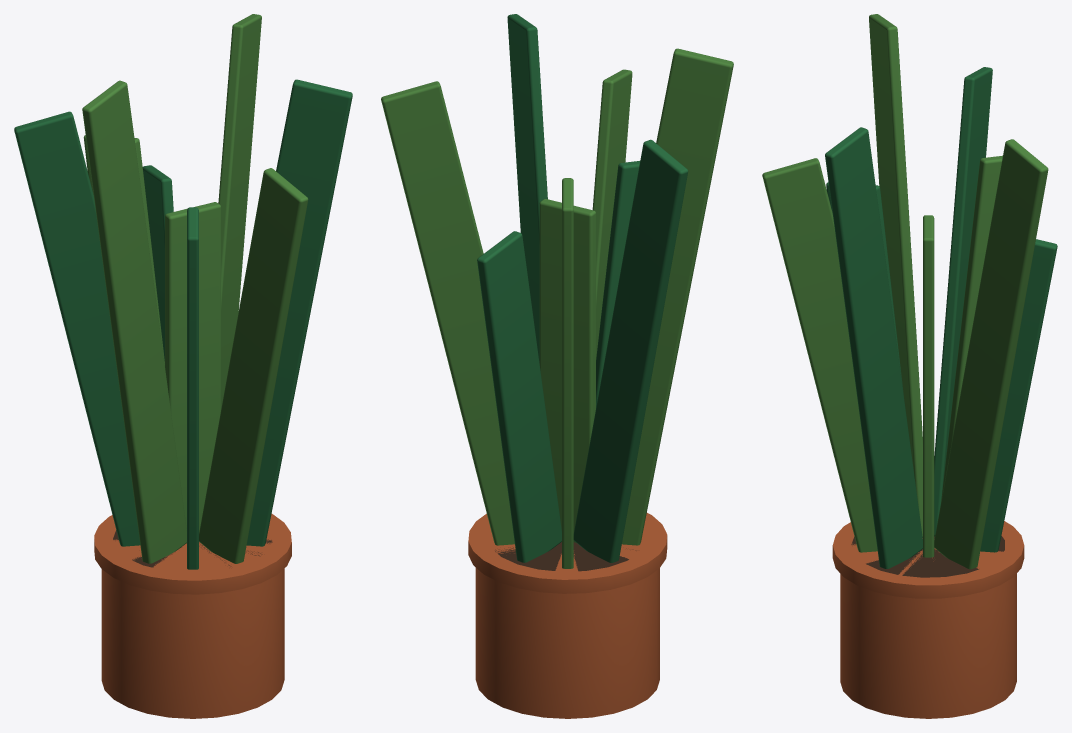
The model's file is plant-snake.glb.
3 views of the same model, side by side, from view 1: azimuth 30°, elevation 25°; view 2: azimuth 150°, elevation 25°; view 3: azimuth 270°, elevation 25° (orthographic). The views are drawn at different scales.
Parts seen in each view (by area): view 1: plant-snake-solid; view 2: plant-snake-solid; view 3: plant-snake-solid.
Part boxes in pixels (left/top/right/bottom): plant-snake-solid: left=14, top=14, right=352, bottom=718; plant-snake-solid: left=381, top=14, right=733, bottom=718; plant-snake-solid: left=762, top=14, right=1057, bottom=718.
Size of the model in its own units: 0.3325 by 0.7322 by 0.3198.
